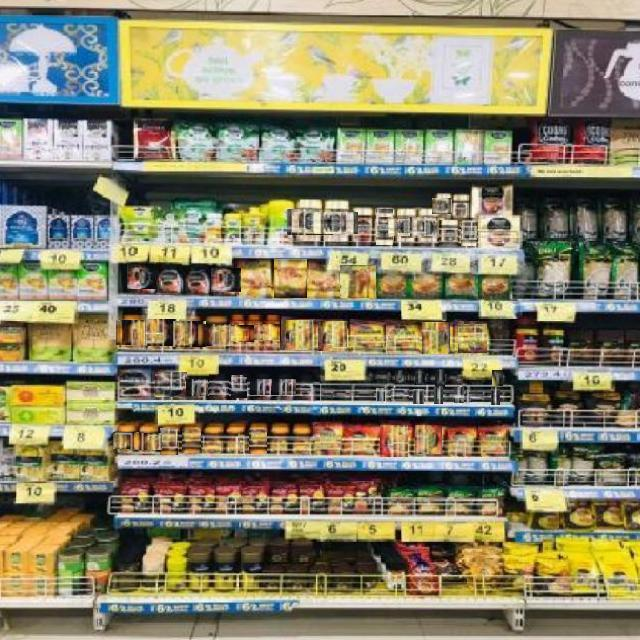Coffee: (273, 259, 307, 298), (237, 260, 271, 297), (308, 259, 340, 298), (287, 209, 333, 235), (341, 265, 376, 298), (281, 319, 313, 350), (387, 322, 419, 353), (313, 212, 358, 234), (144, 320, 179, 346), (318, 320, 347, 351), (352, 321, 383, 350), (421, 323, 450, 354), (172, 321, 206, 347), (116, 320, 151, 345), (458, 323, 487, 353), (381, 425, 408, 457), (120, 370, 149, 398), (126, 264, 158, 289), (155, 372, 187, 397), (208, 268, 241, 292), (346, 427, 374, 455), (414, 426, 442, 454), (315, 423, 341, 453), (157, 263, 182, 294), (187, 265, 211, 297), (448, 428, 475, 456), (199, 323, 231, 346), (480, 429, 507, 456), (388, 218, 425, 236), (375, 209, 393, 245), (410, 218, 445, 236), (218, 325, 254, 342), (252, 325, 289, 340), (291, 428, 312, 453), (160, 427, 178, 455), (134, 432, 162, 450), (247, 315, 261, 351), (182, 428, 201, 453), (227, 429, 246, 454), (203, 429, 222, 454), (249, 428, 267, 454), (209, 375, 229, 398), (112, 432, 139, 449), (271, 428, 288, 455), (440, 221, 458, 246), (460, 222, 477, 246), (250, 378, 274, 395), (296, 375, 313, 399), (452, 195, 468, 220), (431, 199, 457, 214), (231, 374, 247, 398), (272, 379, 296, 395), (187, 379, 208, 396), (354, 388, 374, 398), (392, 389, 409, 400), (492, 370, 503, 386), (336, 387, 352, 398), (453, 387, 464, 403), (435, 370, 445, 387), (414, 370, 425, 385), (434, 386, 443, 404), (450, 372, 466, 382), (414, 388, 424, 404), (375, 371, 390, 381), (492, 387, 500, 405), (320, 387, 333, 398), (395, 370, 405, 384), (376, 387, 385, 401), (469, 392, 483, 401), (455, 246, 457, 246)
